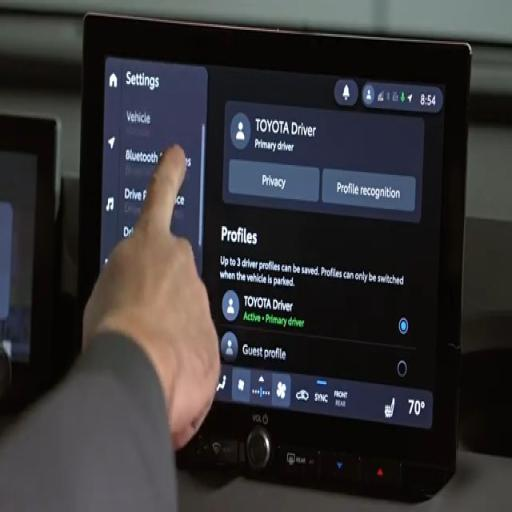windshield: (0, 0, 511, 44)
